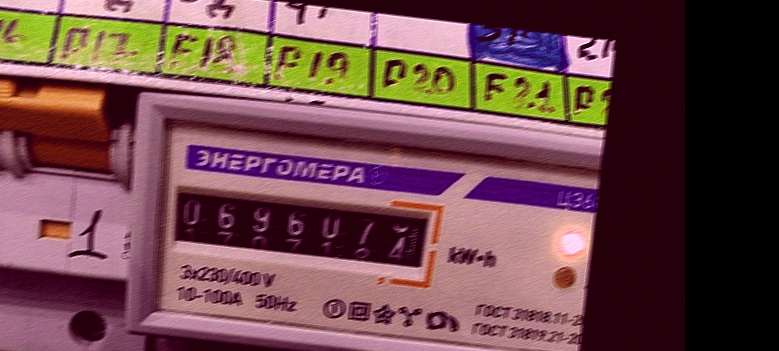0: (178, 197, 202, 229), (319, 210, 341, 242)
4: (384, 234, 406, 264)
6: (212, 200, 238, 232), (284, 208, 306, 238)
7: (353, 215, 374, 247)
9: (249, 205, 270, 236)
screen: (151, 167, 444, 290)
